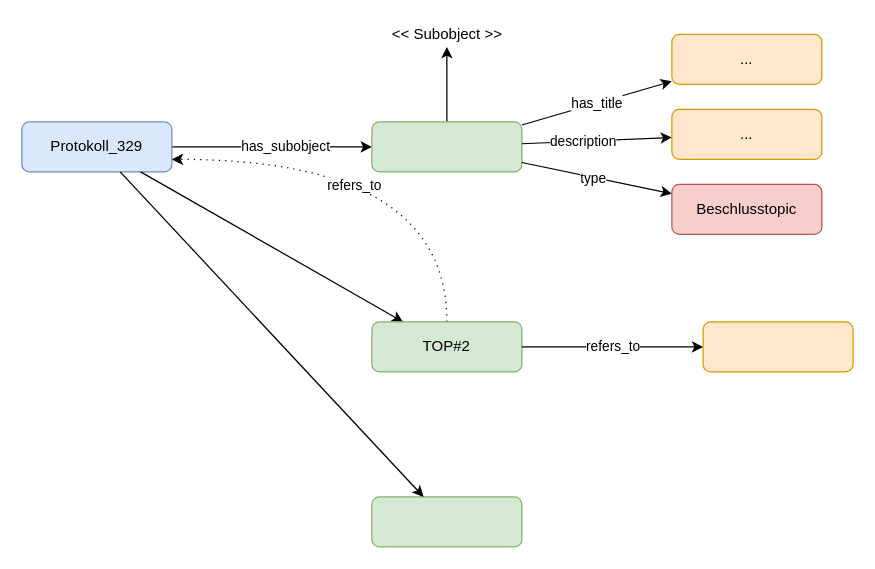
The diagram is 875 pixels wide and 569 high, and some of its shapes have lost their labels. Here are the shapes that lost their labels. From the top down, the box of each, then its label:
(371, 121, 522, 172): TOP#1
(702, 321, 853, 372): {{PAGENAME}}
(371, 496, 522, 547): TOP#n
